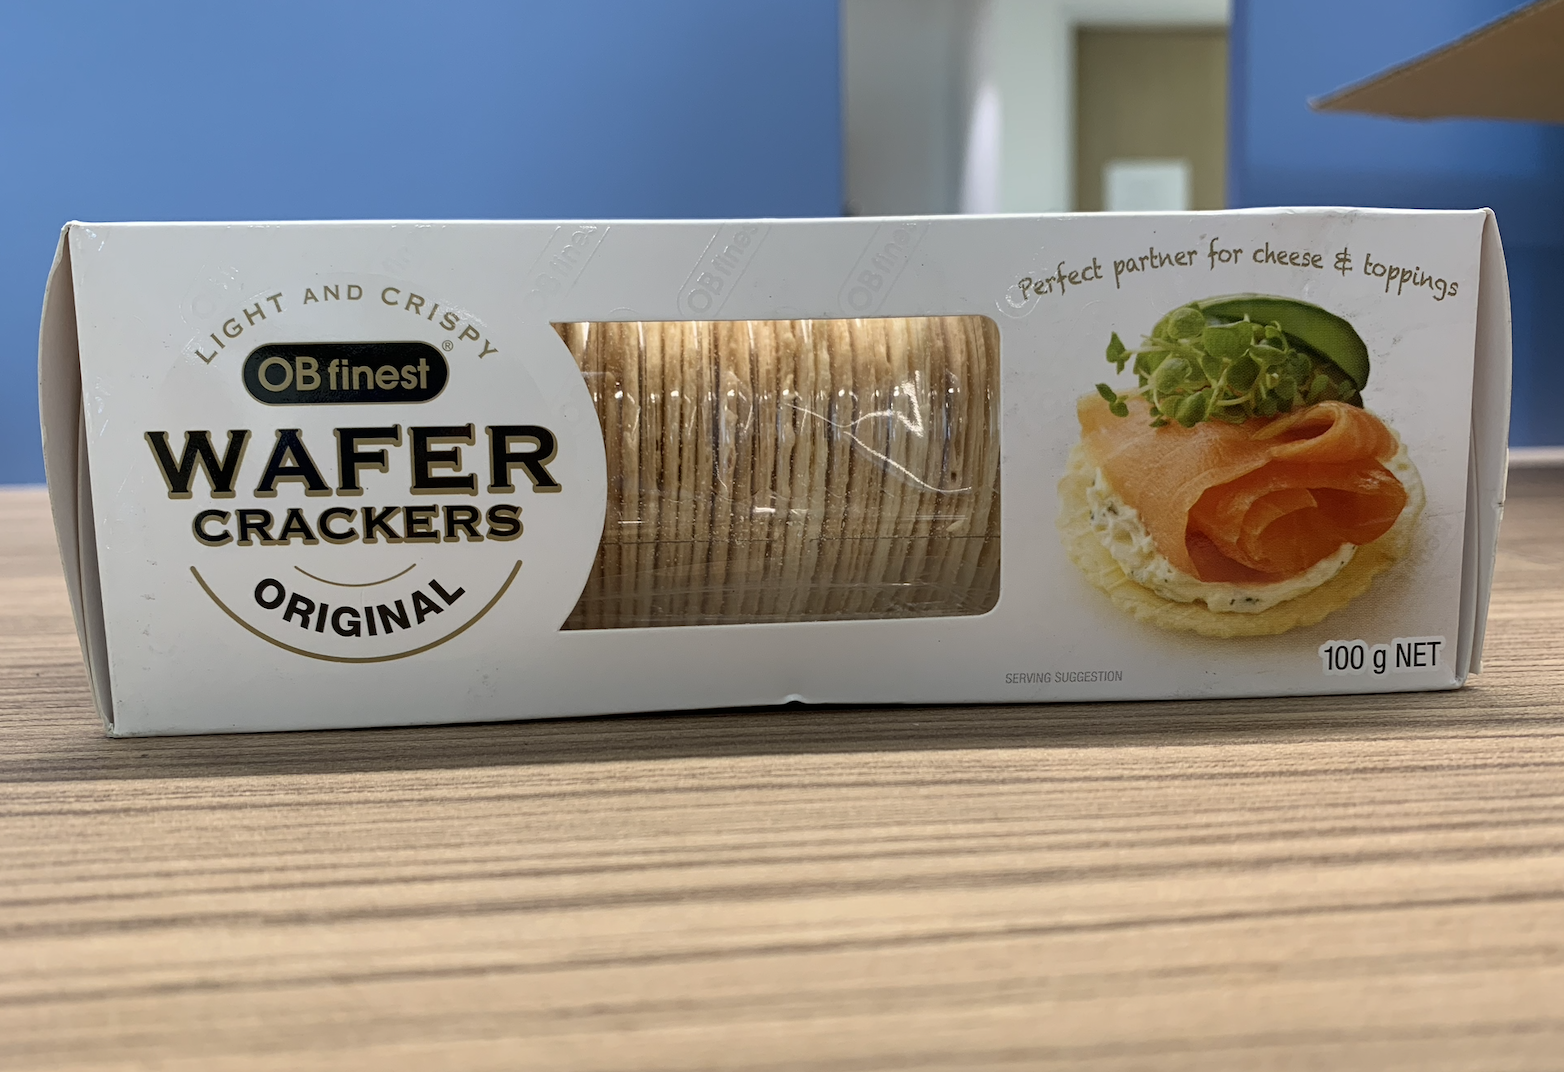crackers_150g: (105, 233, 1474, 695)
